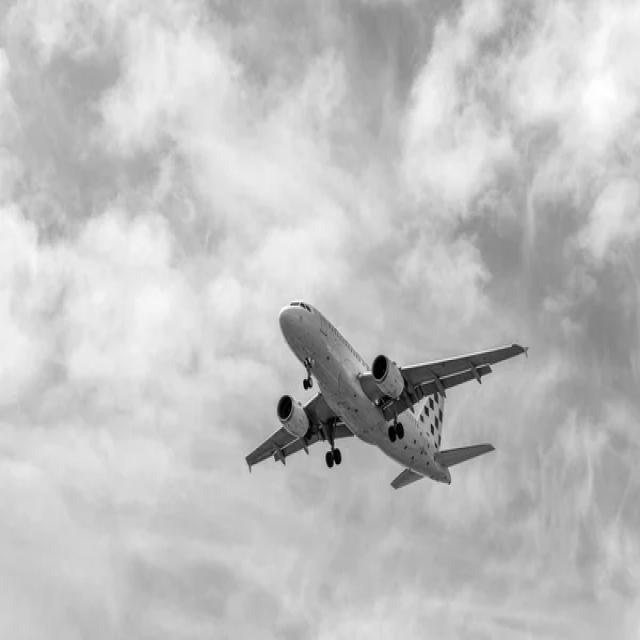Aircraft: (239, 280, 542, 512)
